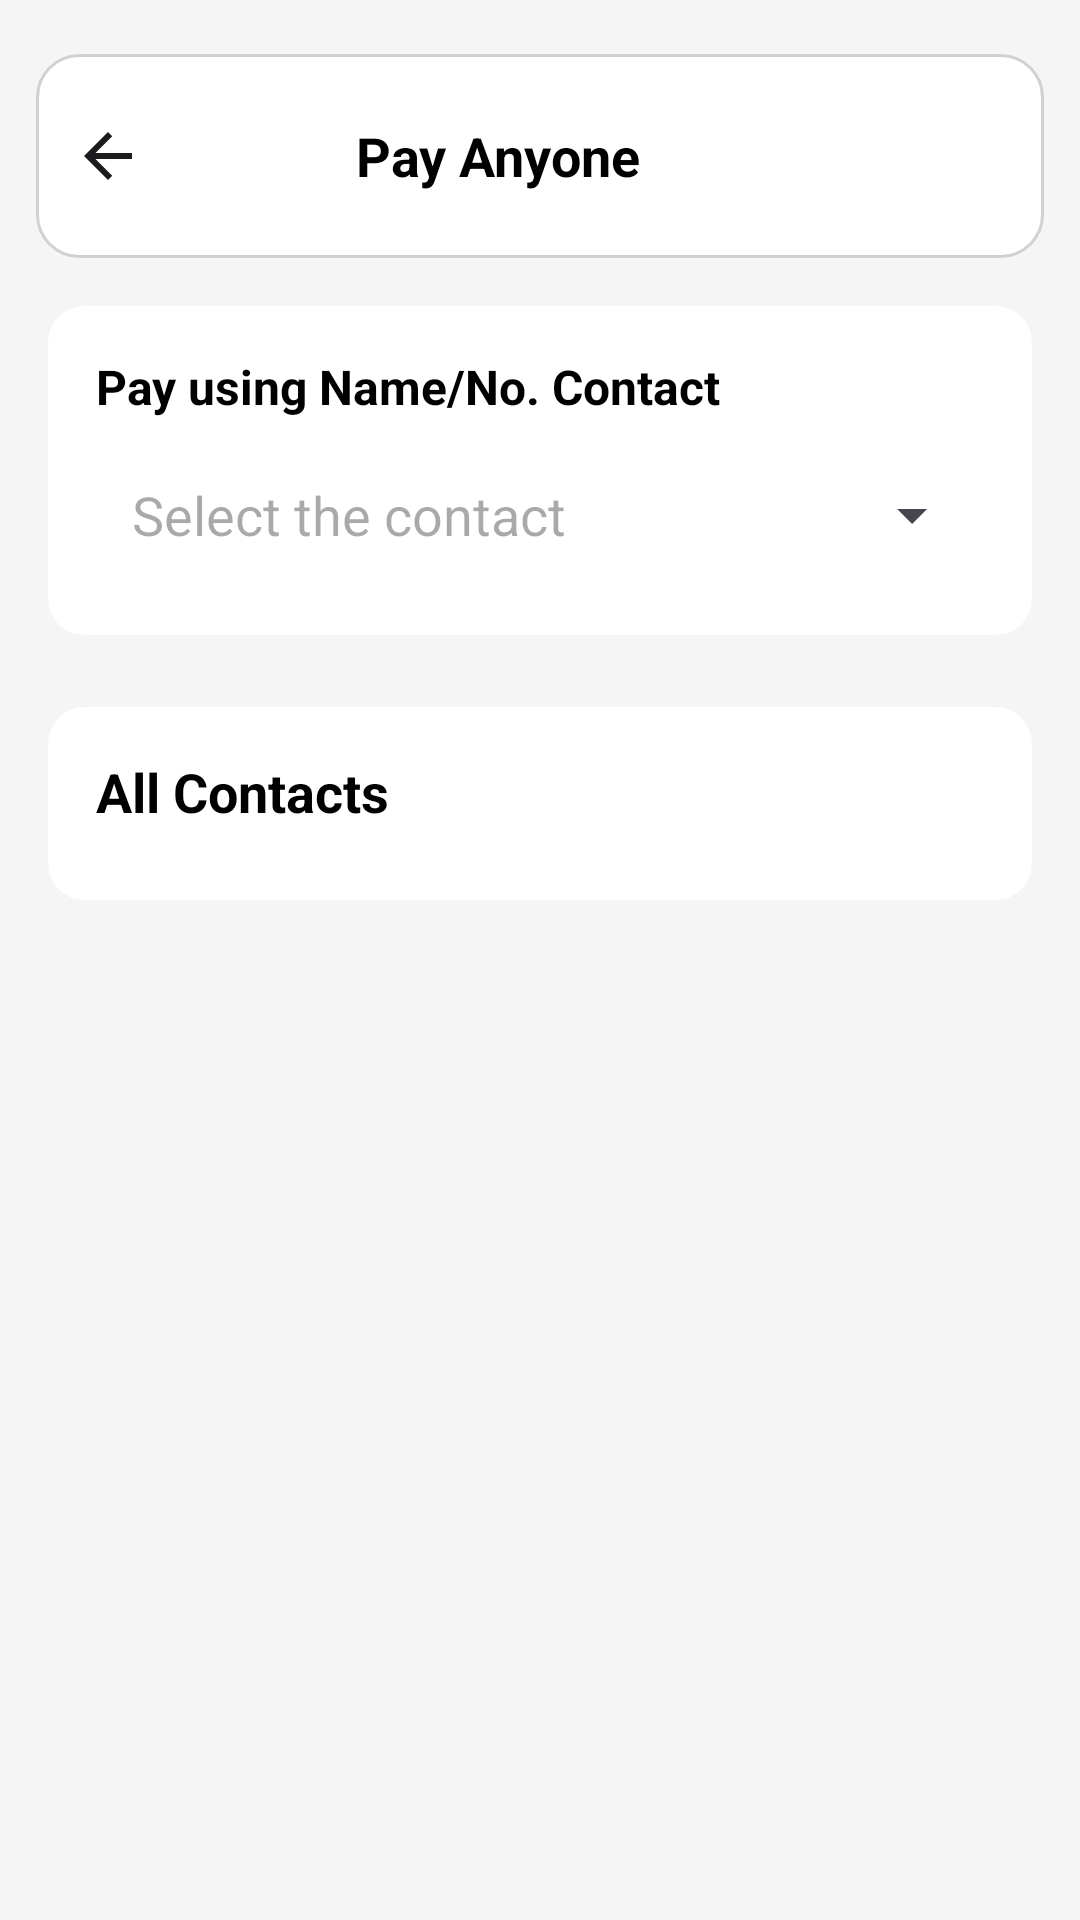

Where to tap for icons on this 1080 x 1920 app screen, as (x,y):
Back button: (108,156)
